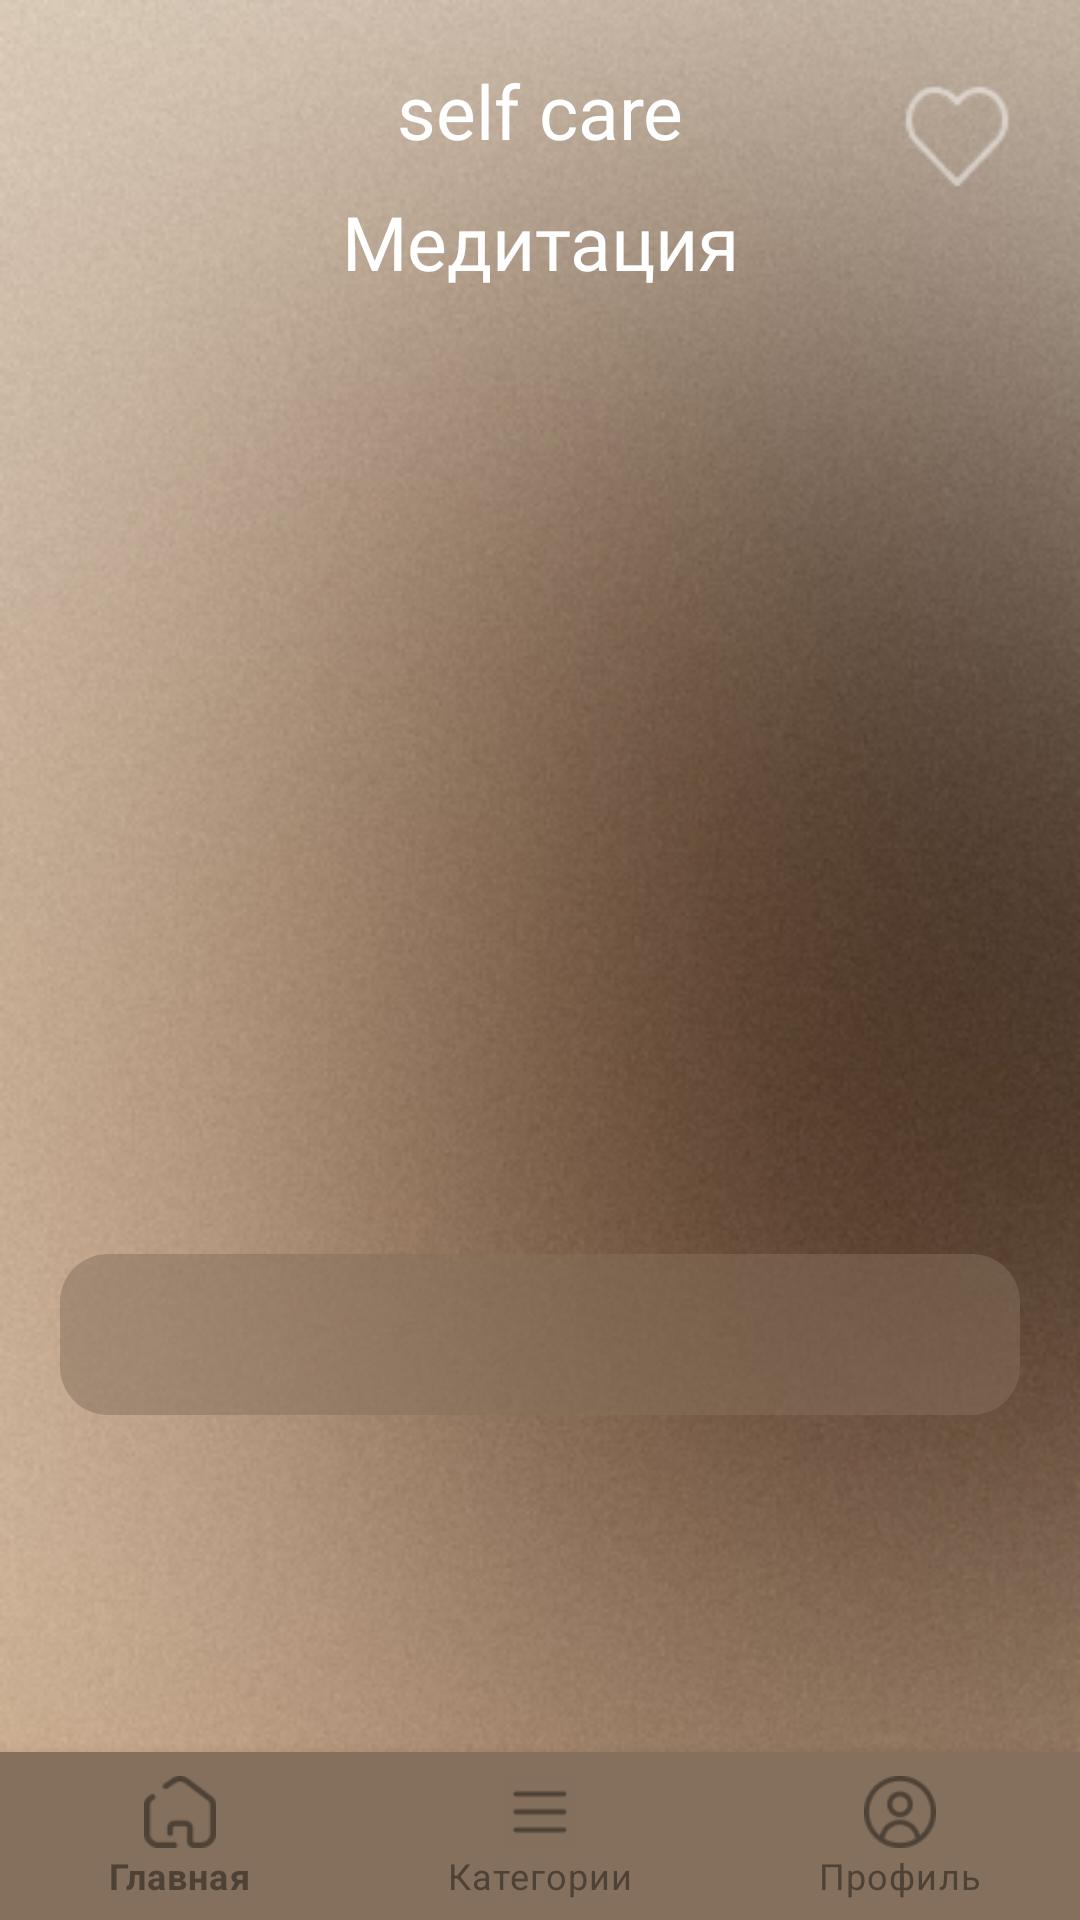

Icons on this 1080×1920 Android screen, each with the point to tap as [x,y]:
favorite: [955,146]
